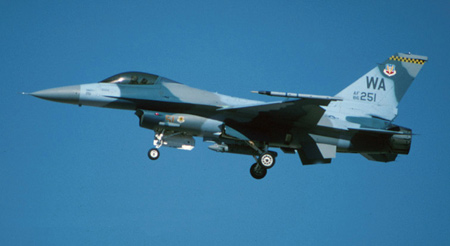airplane: (20, 46, 430, 180)
